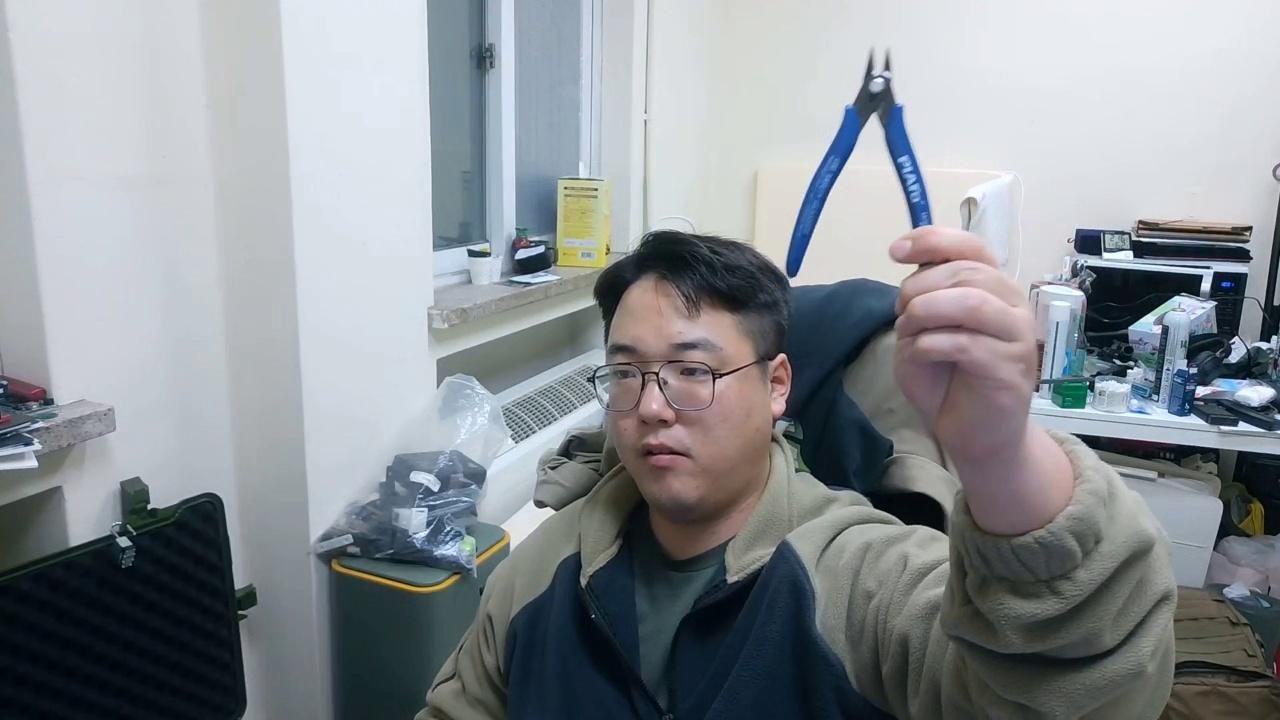blue_pliers: (784, 45, 936, 280)
